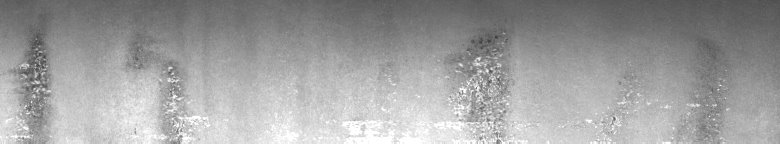hc: (448, 33, 510, 136)
